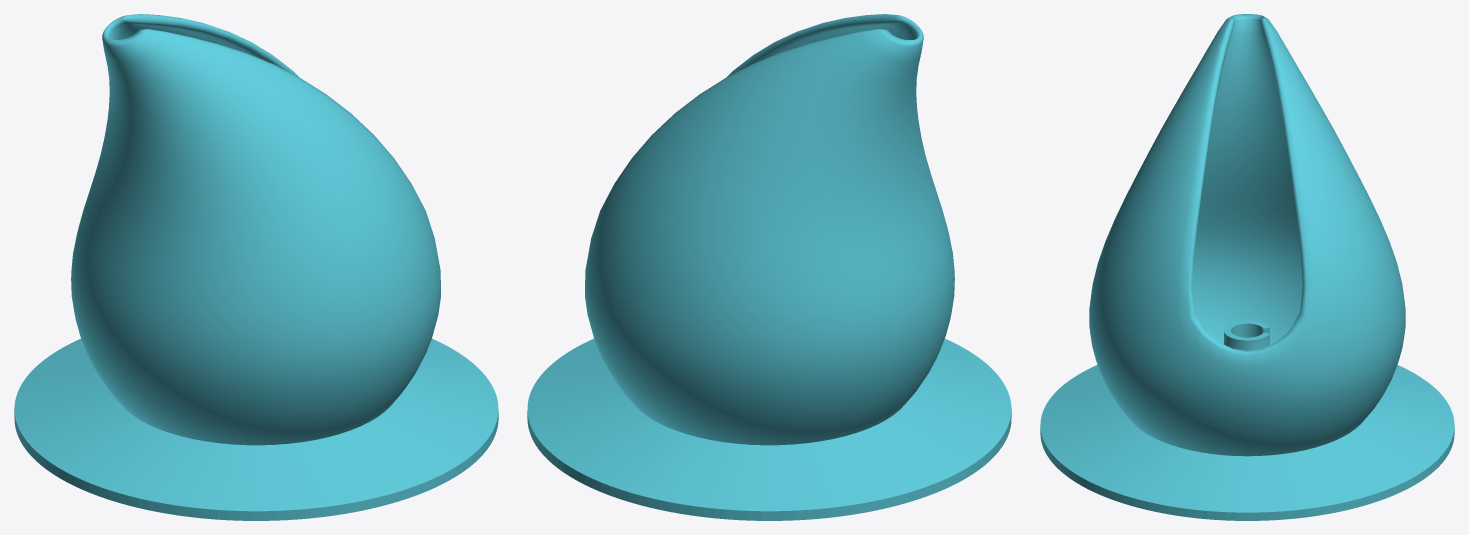
The model's file is pot_1.glb.
3 renders of one model, left to right at view 1: azimuth 30°, elevation 25°; view 2: azimuth 150°, elevation 25°; view 3: azimuth 270°, elevation 25°, orthographic. The views are drawn at different scales.
Parts seen in each view (by area): view 1: pot_1, pot_1_base; view 2: pot_1, pot_1_base; view 3: pot_1, pot_1_base, vase_connector1.
Boxes of the visible parts, x1=… form: pot_1: x1=71, y1=14, x2=440, y2=445; pot_1_base: x1=14, y1=338, x2=498, y2=520; pot_1: x1=585, y1=14, x2=954, y2=445; pot_1_base: x1=527, y1=338, x2=1011, y2=520; pot_1: x1=1089, y1=14, x2=1405, y2=456; pot_1_base: x1=1040, y1=365, x2=1454, y2=520; vase_connector1: x1=1224, y1=320, x2=1269, y2=350.
Bounding box in the file's own units: 0.09 × 0.0873 × 0.09.
